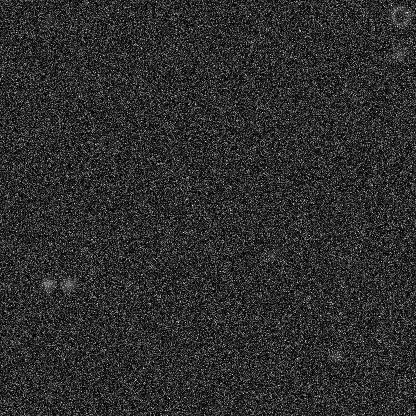Ring: (96, 132, 120, 156), (388, 4, 412, 28)
Spot: (60, 276, 76, 292), (40, 12, 56, 28), (391, 45, 407, 61), (39, 276, 55, 292), (262, 247, 278, 263), (328, 348, 344, 364)
